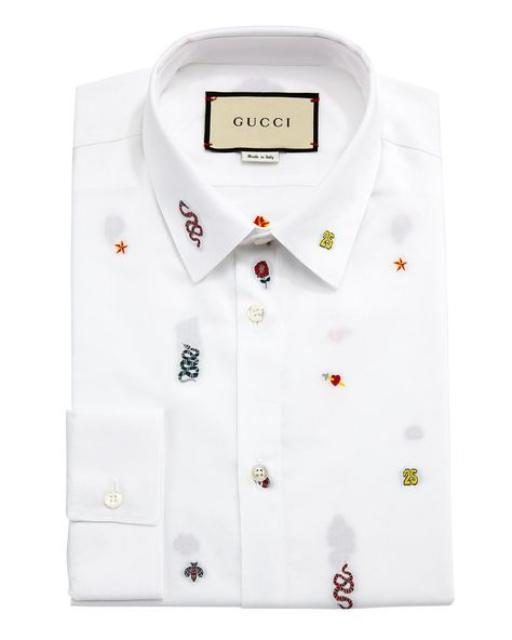Gucci: (216, 103, 304, 143)
